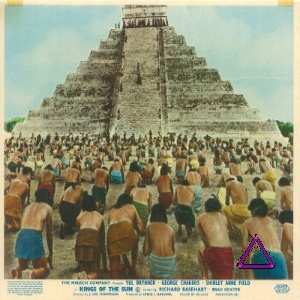triangle: (235, 233, 277, 270)
